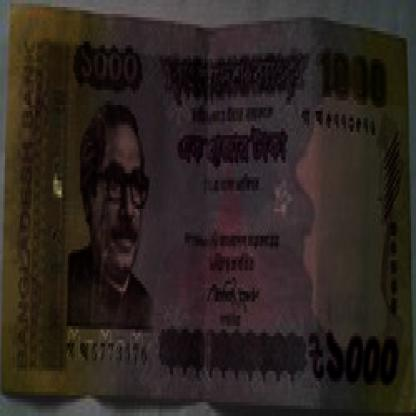One Thousand taka: (305, 316, 401, 395), (310, 45, 391, 114), (72, 42, 143, 94)
